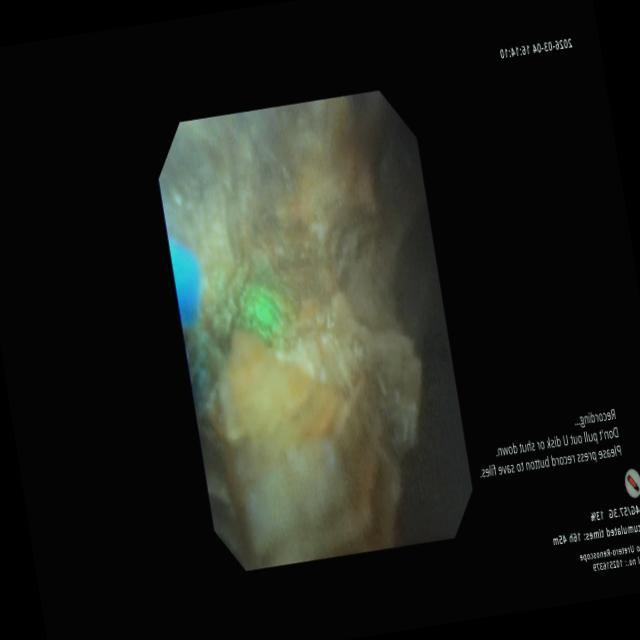laser_dot: (240, 282, 284, 340)
stone-new: (159, 92, 422, 569)
